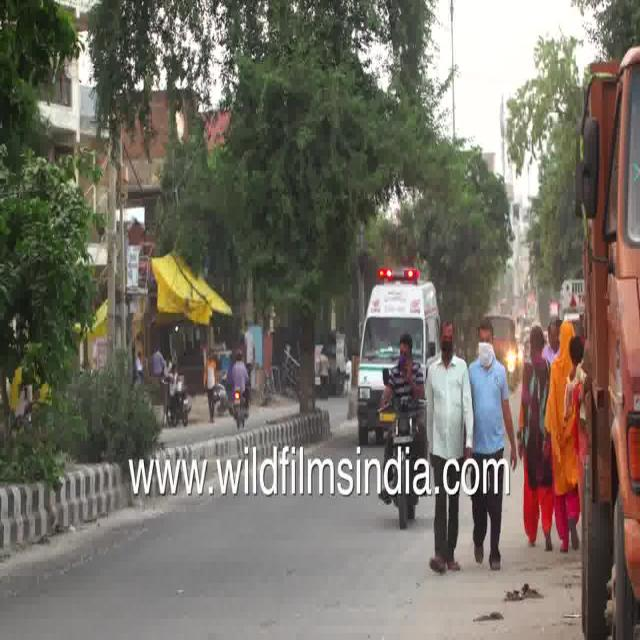ambulance: (351, 263, 442, 406)
